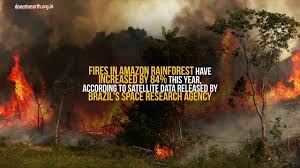fire: (7, 57, 57, 134), (246, 51, 300, 106)
smoke: (9, 10, 88, 42)
